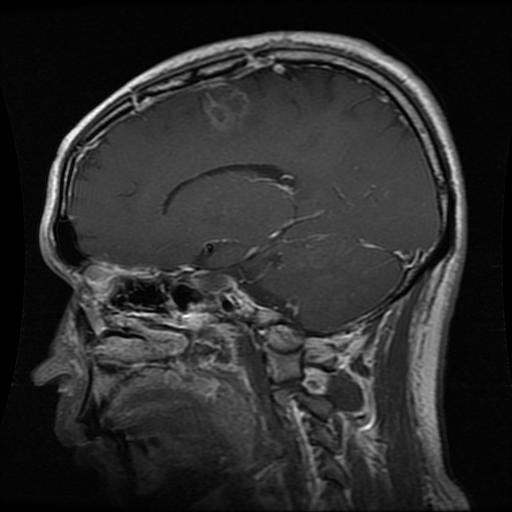Gliomia_tumour: (200, 85, 250, 131)
